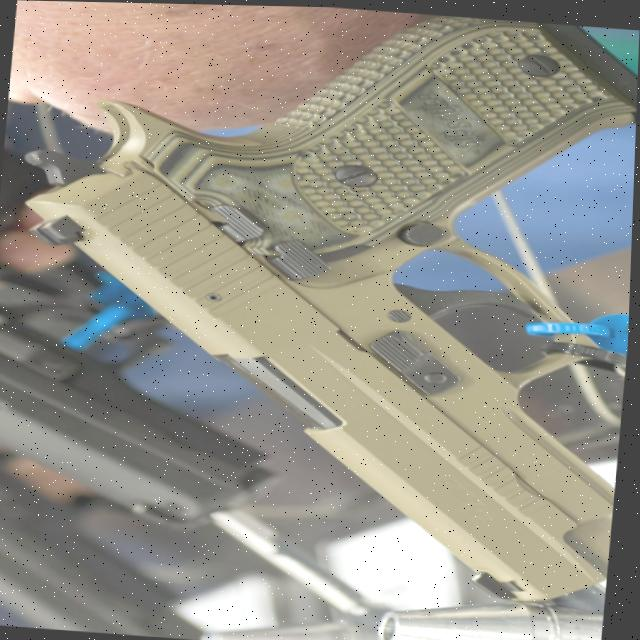pistol: (0, 0, 640, 607), (0, 242, 303, 537), (0, 444, 229, 640)
